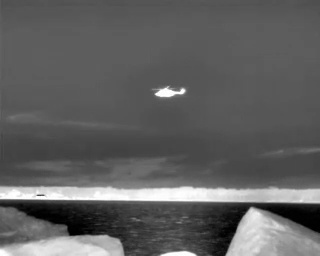HELICOPTER: (148, 80, 190, 104)
